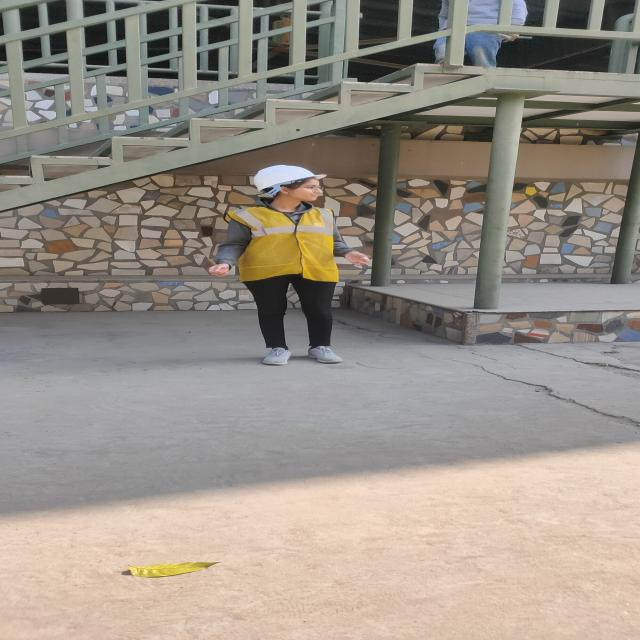safe: (224, 165, 346, 365)
